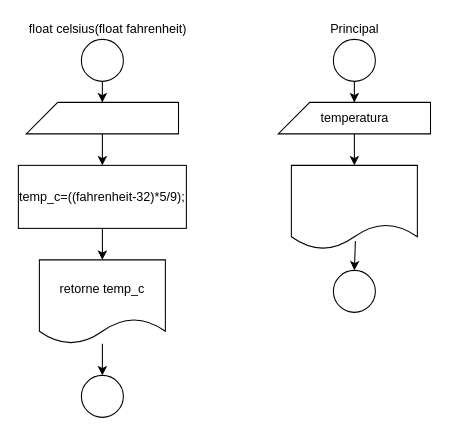
This 449x436 diagram has some shape labels left out. The shapes that lost their labels are listed below. From the top down, each one's centre as x and y in pixels, then its label:
point (101, 117): fahrenheit
point (353, 206): celsius(temperatura)
